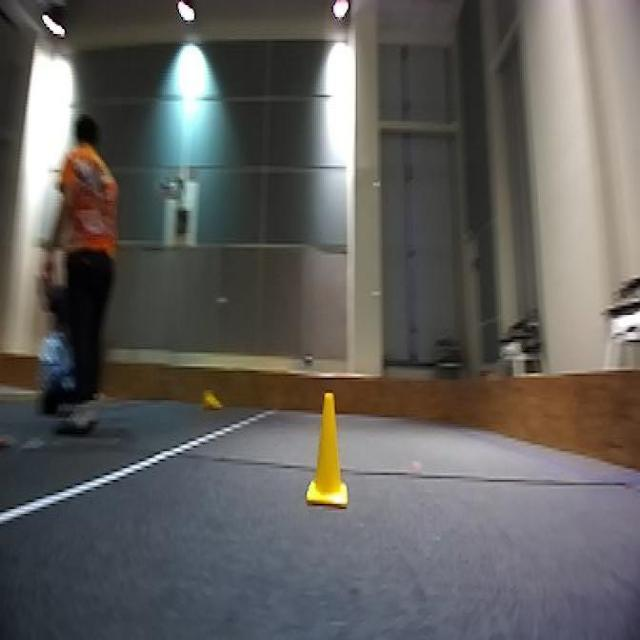frc_cone: (306, 388, 348, 506), (197, 390, 226, 412)
